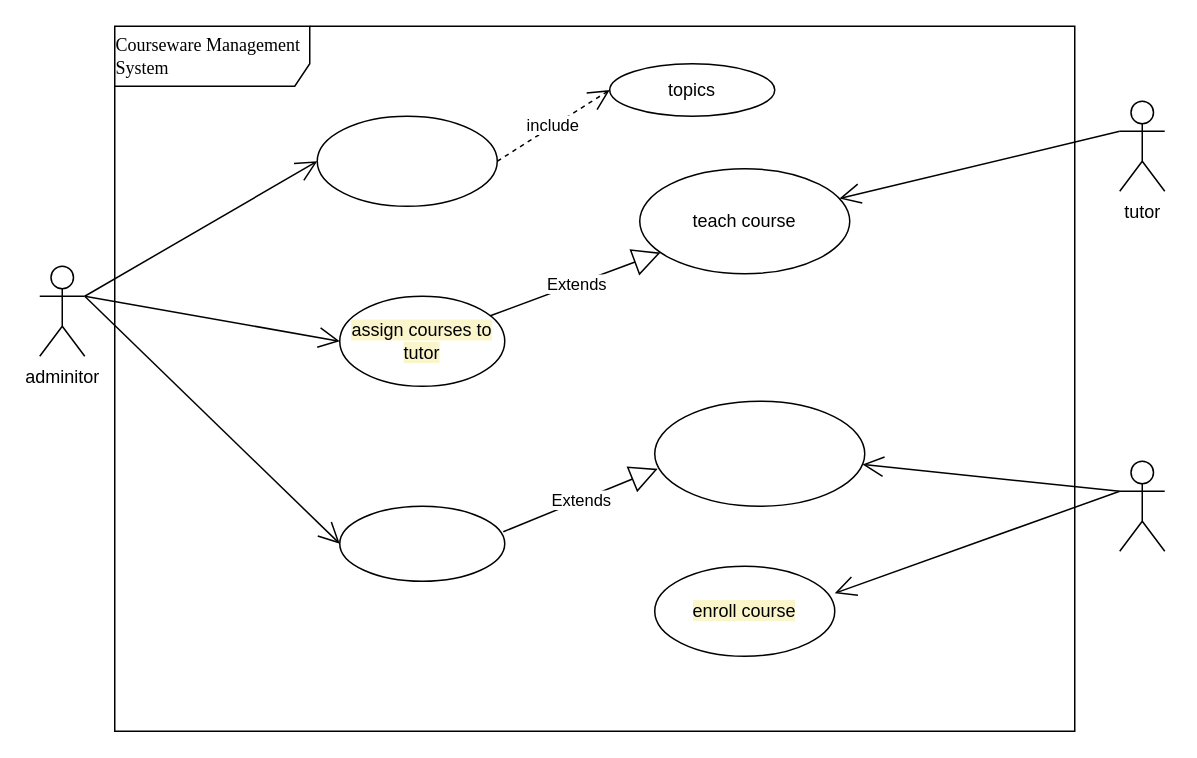
The diagram is 1197 pixels wide and 758 high, and some of its shapes have lost their labels. The centre of each missing label's shape, as x and y in pixels:
"define the course schedule" goes at point (421, 543).
"manage the courses" goes at point (406, 160).
"refer to Course schedule" goes at point (759, 453).
"student" goes at point (1141, 505).
